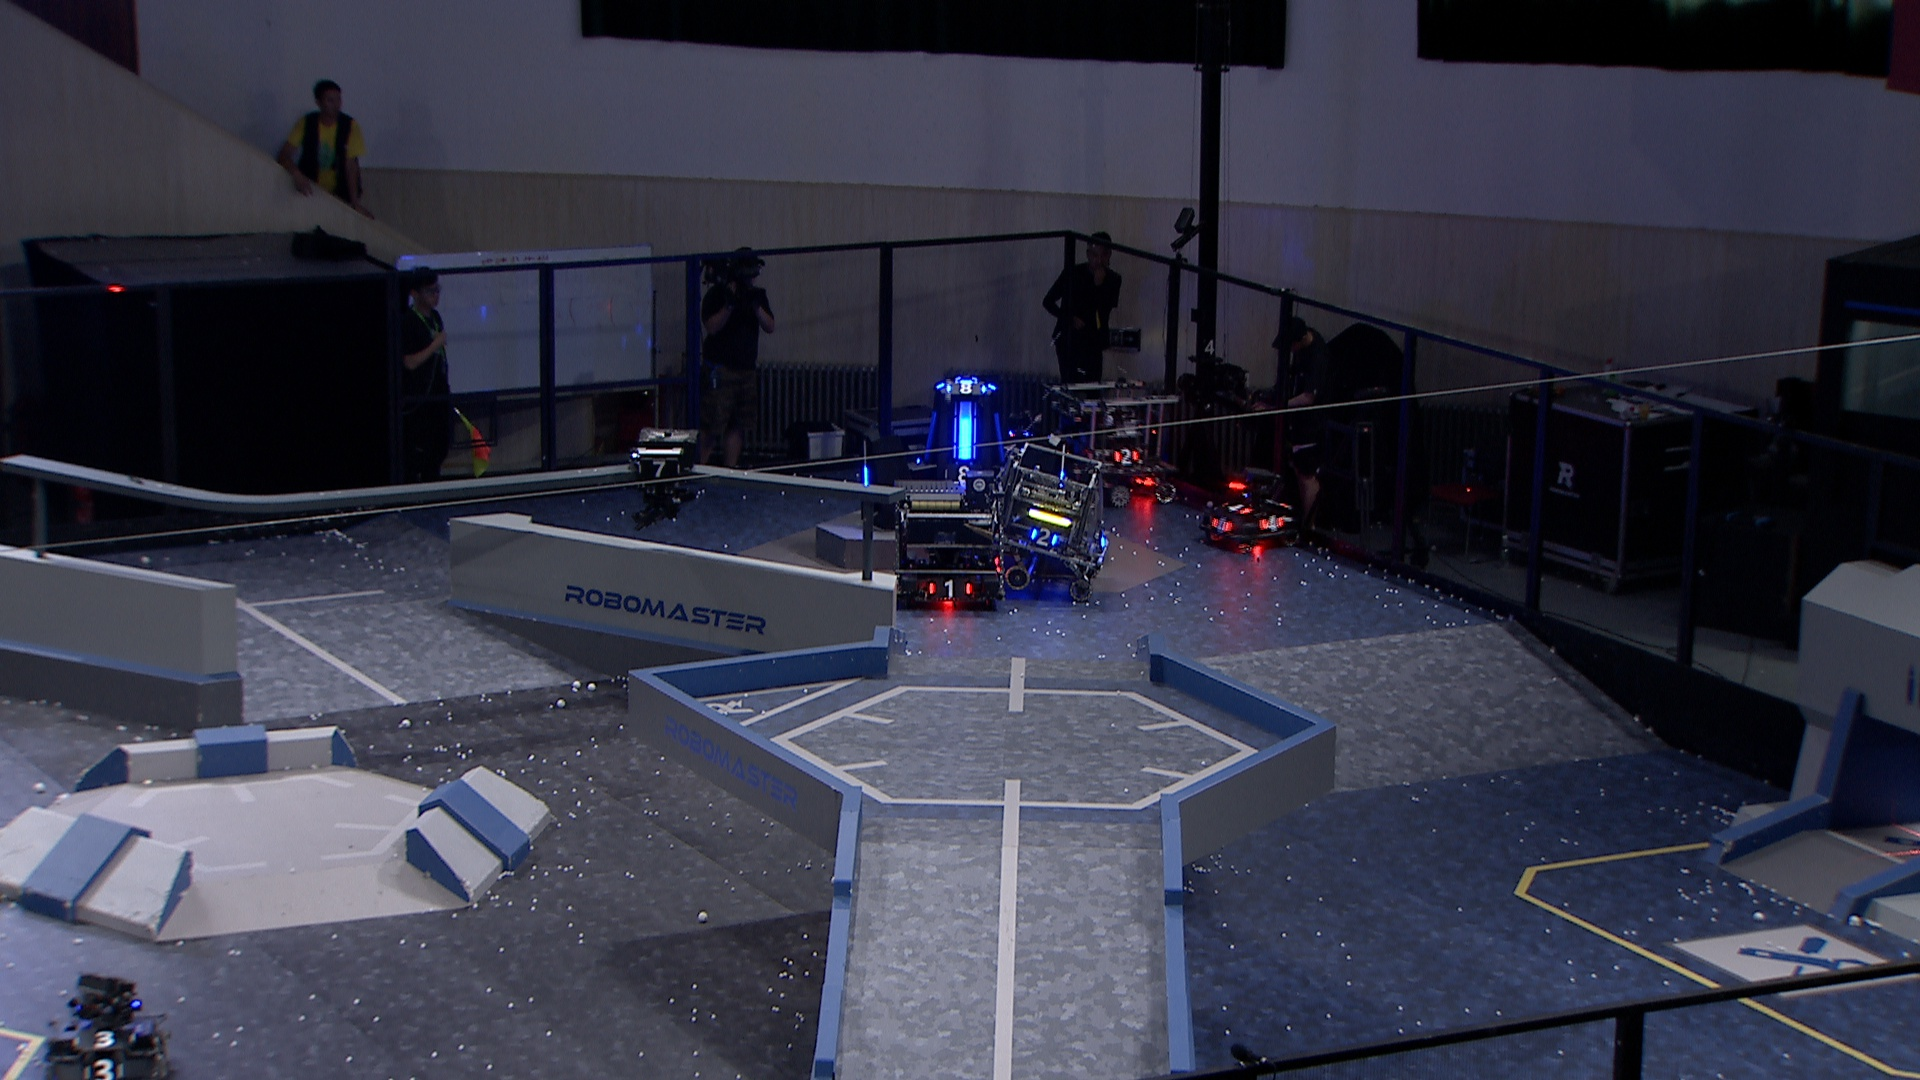armor: (69, 1026, 141, 1052), (920, 576, 977, 600), (633, 458, 683, 481), (953, 414, 977, 463), (83, 1058, 131, 1080), (922, 409, 940, 463), (944, 378, 989, 398), (942, 463, 982, 483), (993, 411, 1007, 465), (1218, 498, 1253, 517), (1257, 510, 1284, 533), (1030, 527, 1059, 549), (145, 1035, 166, 1063), (1114, 444, 1138, 465), (1209, 514, 1234, 534), (858, 463, 872, 487)
base: (855, 371, 1077, 537)
car: (1043, 373, 1185, 509), (989, 444, 1112, 597), (889, 475, 1010, 612), (44, 973, 171, 1080), (1200, 463, 1302, 547)
watcher: (626, 425, 702, 531)
